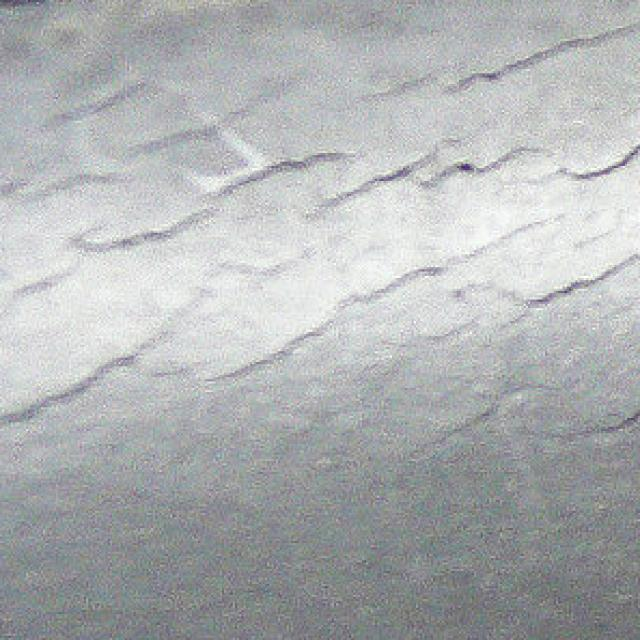Cracks: (4, 16, 640, 452)
